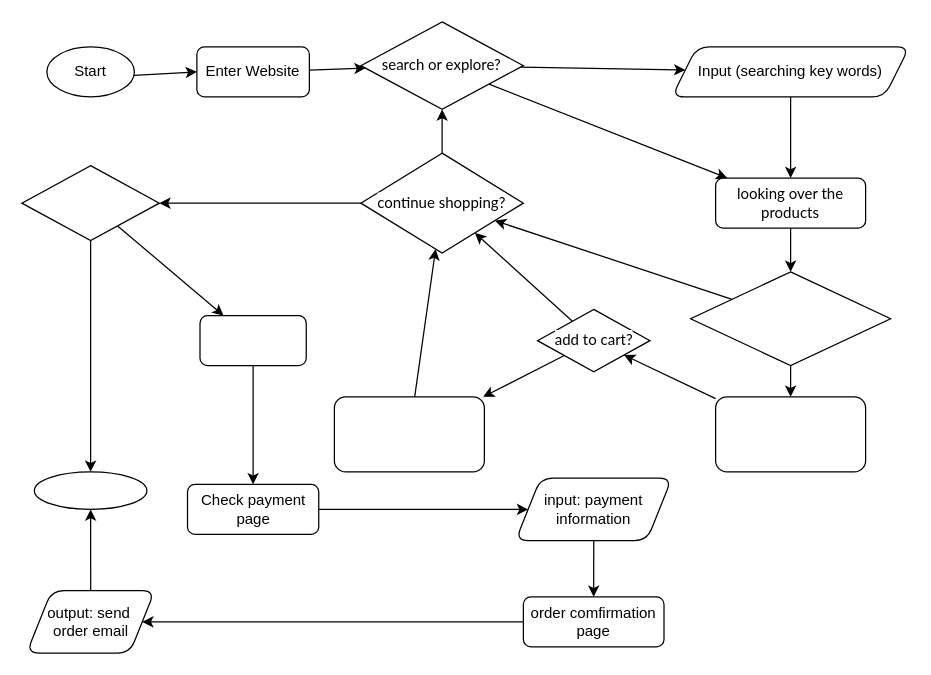
Image size: 931x675. Some labels were removed from this diagram. Here are the shapes that lost their labels. From the top down, the centre of each, then its label:
At (90,202): "check out?".
At (790,318): "view a specific product?".
At (252,340): "check cart page".
At (408,434): "show confirmation of adding item(s) to cart".
At (790,434): "view corresponding product page".
At (90,490): "exit website".
